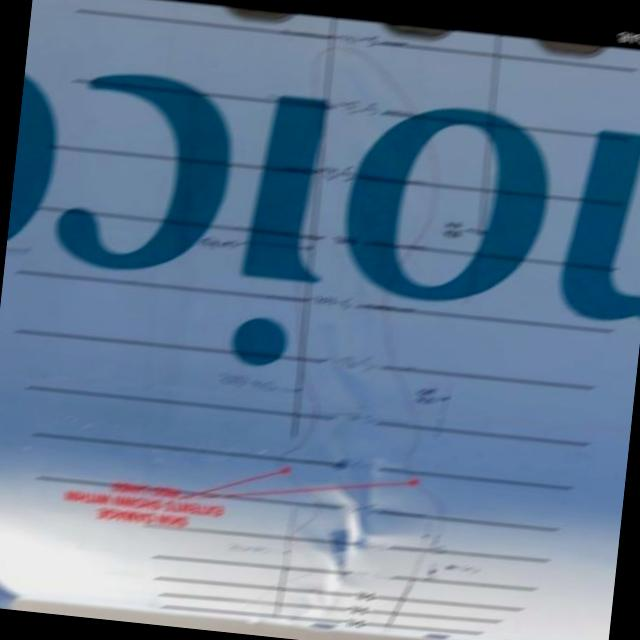dent: (278, 43, 442, 632)
